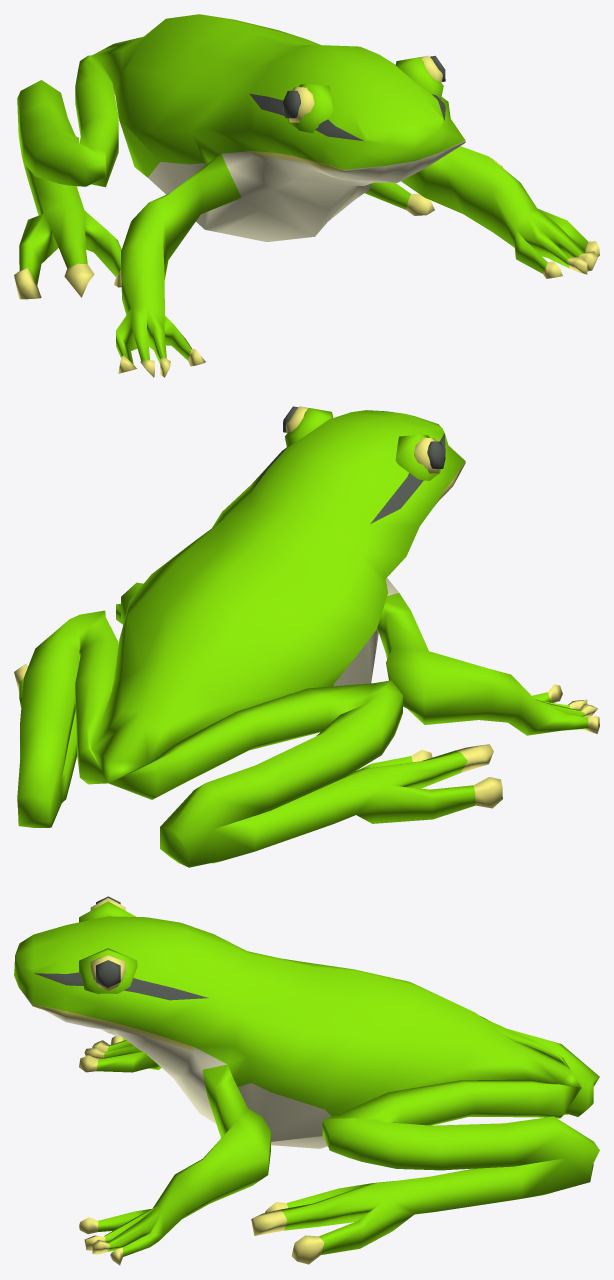
The model's file is frog_ea19e8b0.glb.
3 renders of one model, top to bottom at view 1: azimuth 30°, elevation 25°; view 2: azimuth 150°, elevation 25°; view 3: azimuth 270°, elevation 25°, orthographic. The views are drawn at different scales.
Visible parts, largest first — view 1: Object_5, Object_4, Object_6, Object_7; view 2: Object_5, Object_6, Object_7, Object_4; view 3: Object_5, Object_4, Object_6, Object_7.
Boxes of the visible parts, x1,y1,x2,y2 form: Object_5: (17,14,588,364); Object_4: (114,90,465,241); Object_6: (14,55,599,377); Object_7: (249,55,445,140); Object_5: (17,408,588,867); Object_6: (14,406,599,808); Object_7: (250,406,445,523); Object_4: (333,578,398,686); Object_5: (14,901,599,1256); Object_4: (21,991,331,1148); Object_6: (32,898,324,1265); Object_7: (34,896,208,1000).
Bounding box in the file's own units: 698 × 345 × 791.
